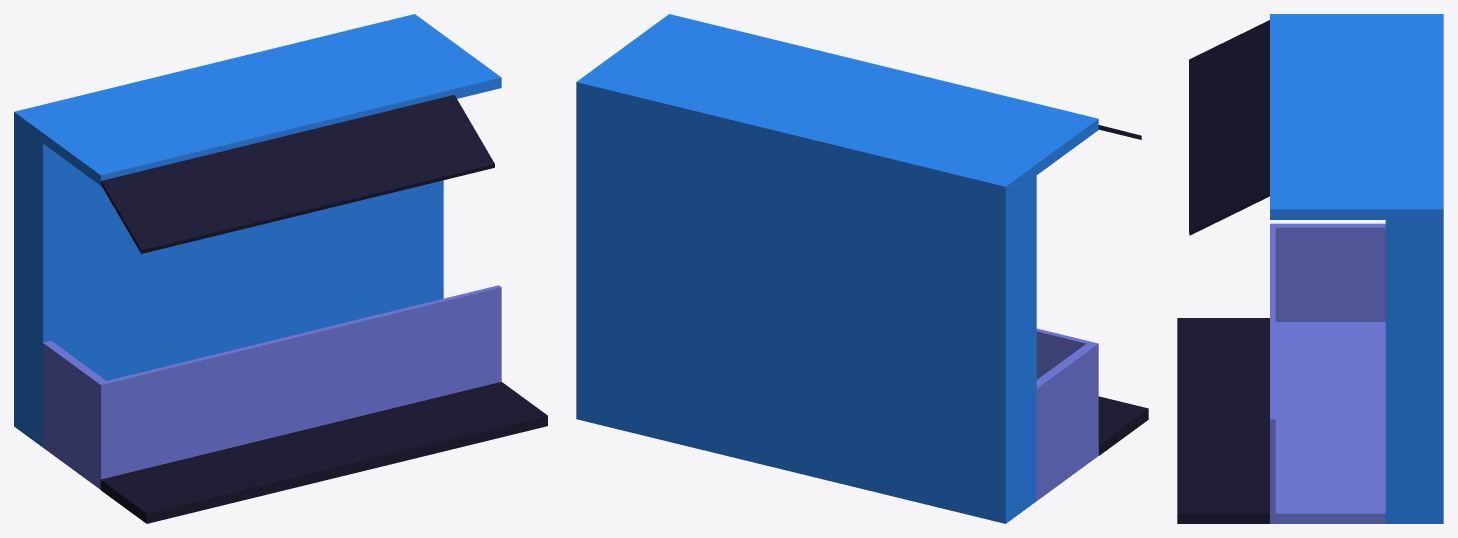
The picture shows the model from 3 angles, left to right: view 1: azimuth 30°, elevation 25°; view 2: azimuth 150°, elevation 25°; view 3: azimuth 270°, elevation 25°; orthographic projection. The views are drawn at different scales.
Parts seen in each view (by area): view 1: Mesh_0.001; view 2: Mesh_0.001; view 3: Mesh_0.001.
Part boxes in pixels (<box>): Mesh_0.001: <box>14,14,547,523</box>; Mesh_0.001: <box>576,14,1148,523</box>; Mesh_0.001: <box>1177,14,1443,523</box>.
Size of the model in its own units: 4 by 3 by 2.3.
